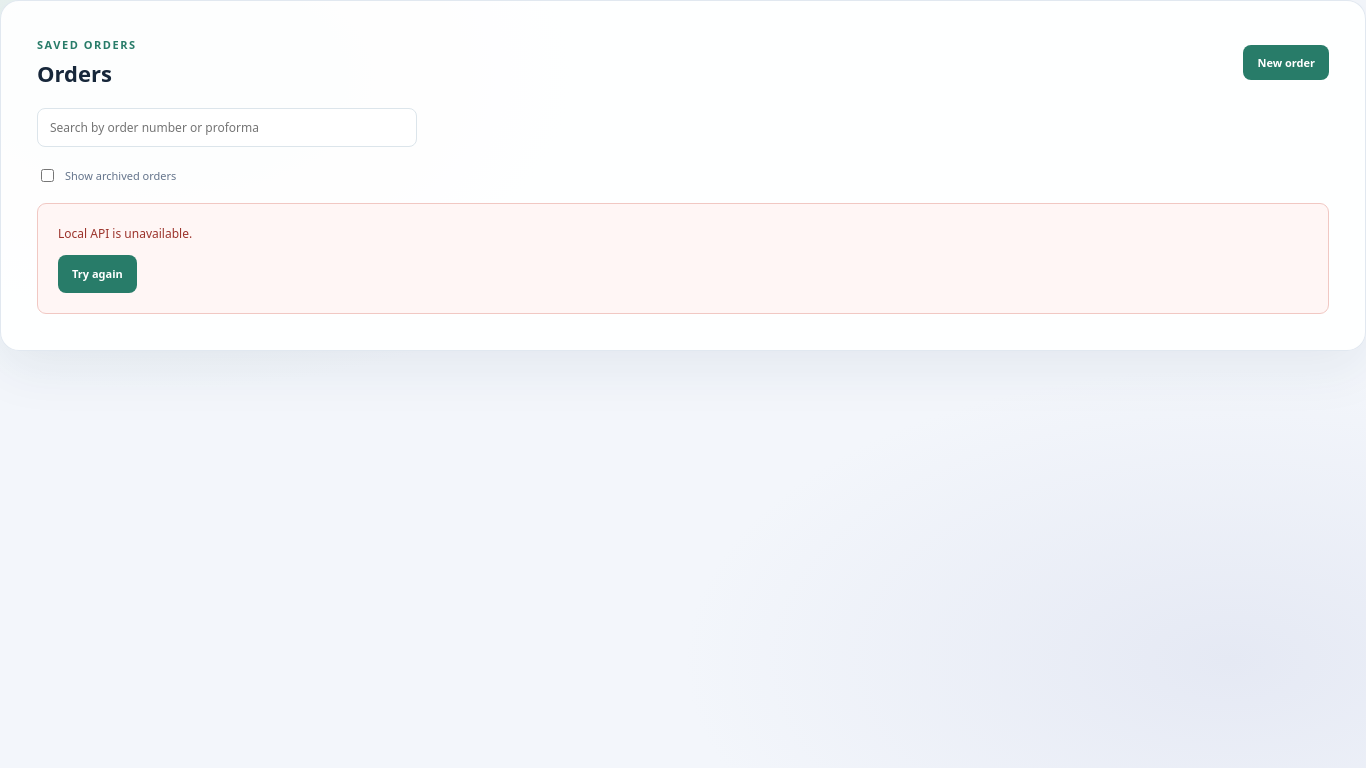
Orders history › shows a retry action when loading fails
Check: the message shows "Local API is unavailable.", box [58, 225, 192, 242]
Click the button "Try again" at (97, 274), box [58, 255, 137, 293]
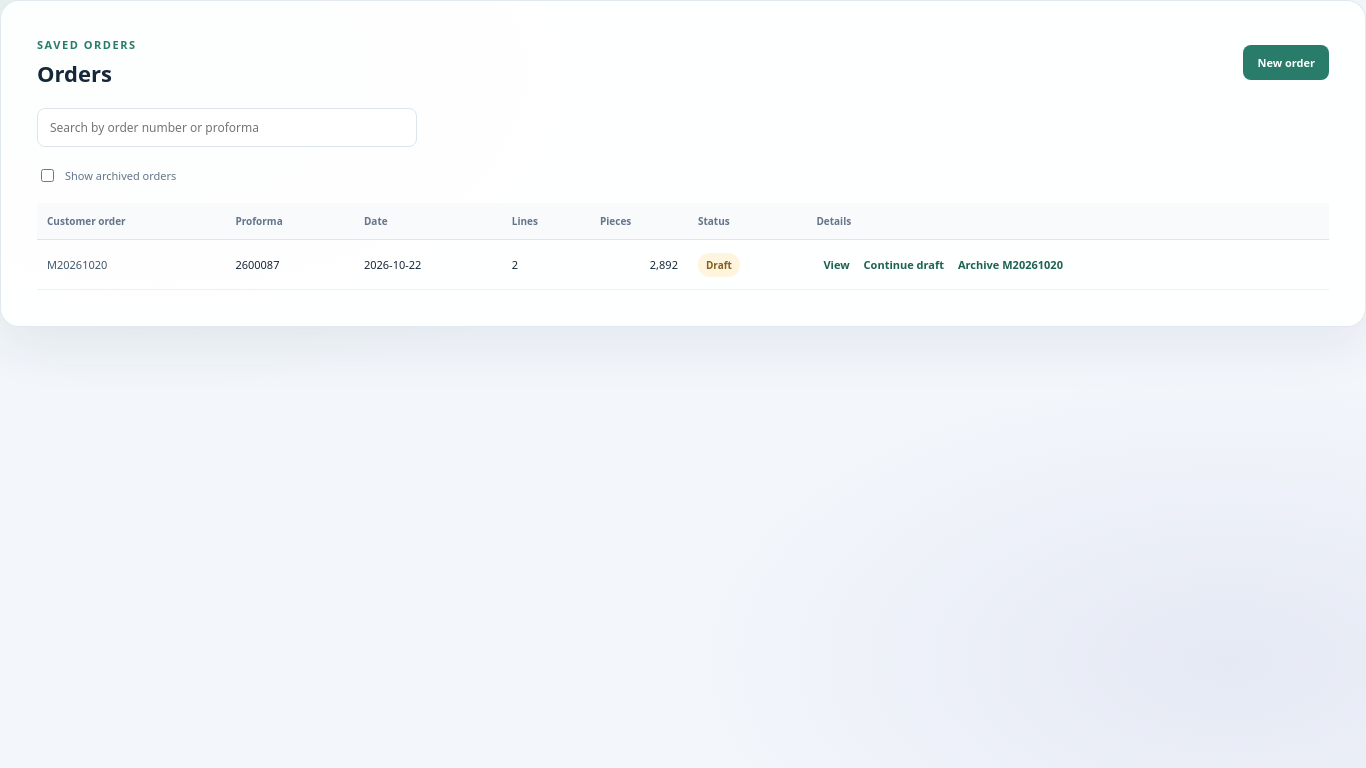
Check: the text "M20261020" is shown, box [37, 240, 225, 290]
